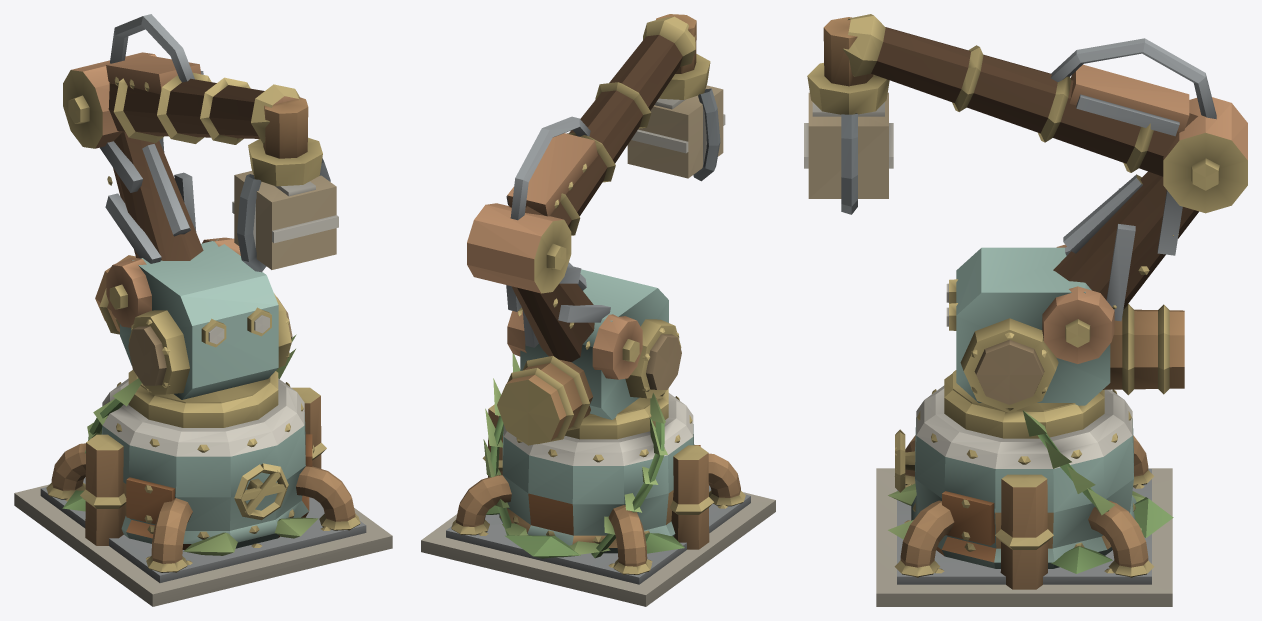
Rendered from arm.glb.
3 renders of one model, left to right at view 1: azimuth 30°, elevation 25°; view 2: azimuth 150°, elevation 25°; view 3: azimuth 270°, elevation 25°, orthographic. The views are drawn at different scales.
Visible parts, largest first — view 1: arm; view 2: arm; view 3: arm.
Boxes of the visible parts, <box> form: arm: <box>14,14,392,606</box>; arm: <box>421,14,775,606</box>; arm: <box>804,14,1247,606</box>.
Size of the model in its own units: 2 by 3.93 by 2.99.
